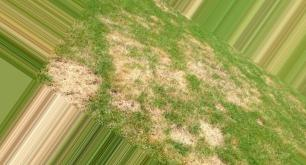patch: (116, 34, 154, 109), (50, 60, 92, 98), (189, 41, 213, 74), (160, 63, 189, 88), (197, 122, 221, 142), (161, 123, 186, 142)
